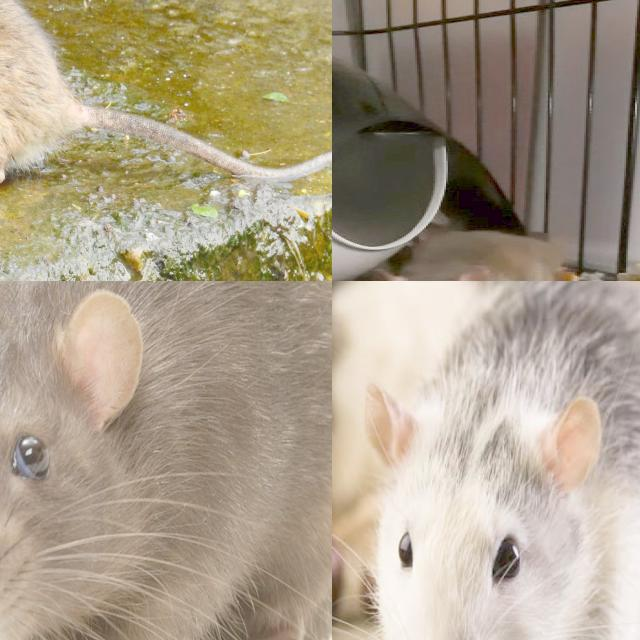rat: (0, 281, 332, 640), (350, 281, 640, 640), (0, 0, 75, 201), (391, 228, 561, 281)
